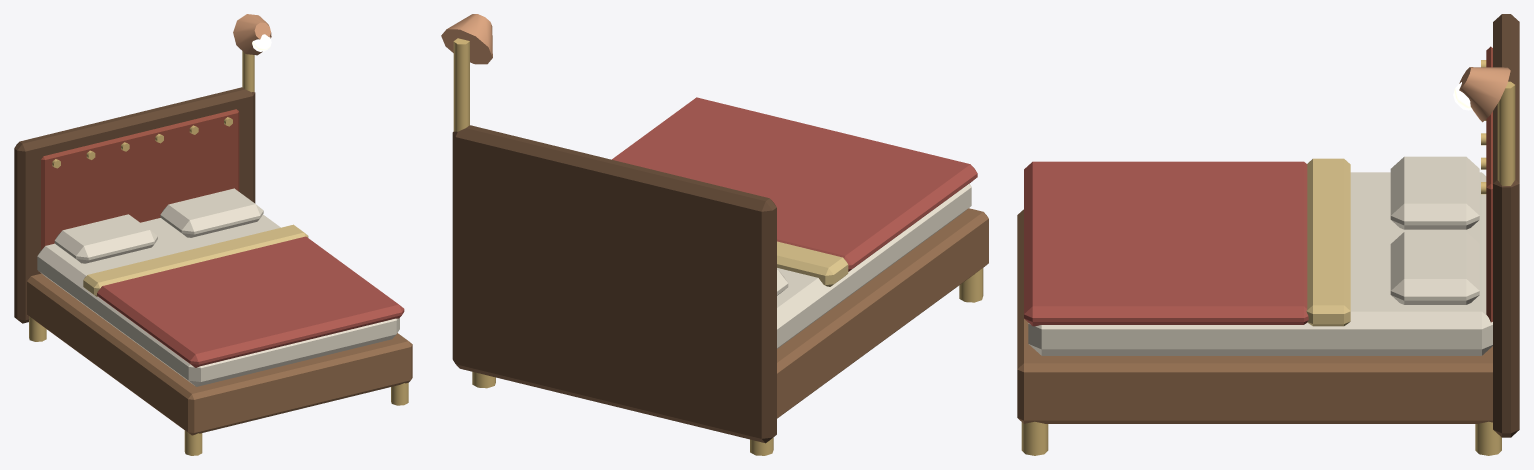
File: hm_bed.glb
3 renders of one model, left to right at view 1: azimuth 30°, elevation 25°; view 2: azimuth 150°, elevation 25°; view 3: azimuth 270°, elevation 25°, orthographic. The views are drawn at different scales.
Parts seen in each view (by area): view 1: hm_bed; view 2: hm_bed; view 3: hm_bed.
Part boxes in pixels (x1=…): hm_bed: x1=14, y1=14, x2=412, y2=455; hm_bed: x1=441, y1=14, x2=988, y2=455; hm_bed: x1=1017, y1=14, x2=1519, y2=455.
Bounding box in the file's own units: 1.89 × 1.93 × 2.26.
